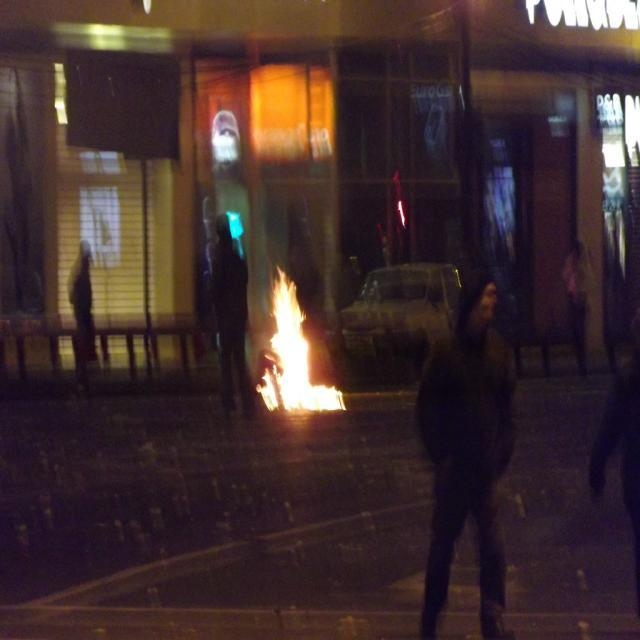Fire: (264, 285, 318, 405)
